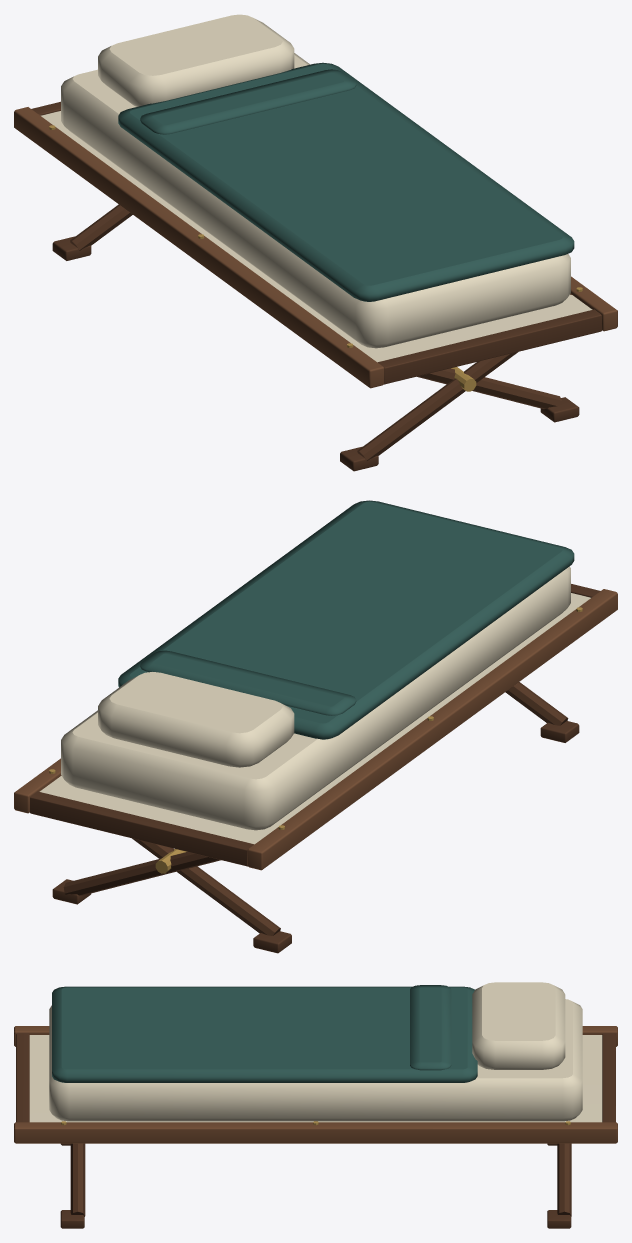
Rendered from rpg-mansion-campaign-x-trestle-cot-01.glb.
3 renders of one model, top to bottom at view 1: azimuth 30°, elevation 25°; view 2: azimuth 150°, elevation 25°; view 3: azimuth 270°, elevation 25°, orthographic. The views are drawn at different scales.
Visible parts, largest first — view 1: rpg-mansion-campaign-x-trestle-cot-01; view 2: rpg-mansion-campaign-x-trestle-cot-01; view 3: rpg-mansion-campaign-x-trestle-cot-01.
Boxes of the visible parts, x1,y1,x2,y2 form: rpg-mansion-campaign-x-trestle-cot-01: [14, 14, 617, 471]; rpg-mansion-campaign-x-trestle-cot-01: [14, 500, 617, 953]; rpg-mansion-campaign-x-trestle-cot-01: [14, 982, 617, 1228].
Size of the model in its own units: 0.88 by 0.68 by 2.18.
